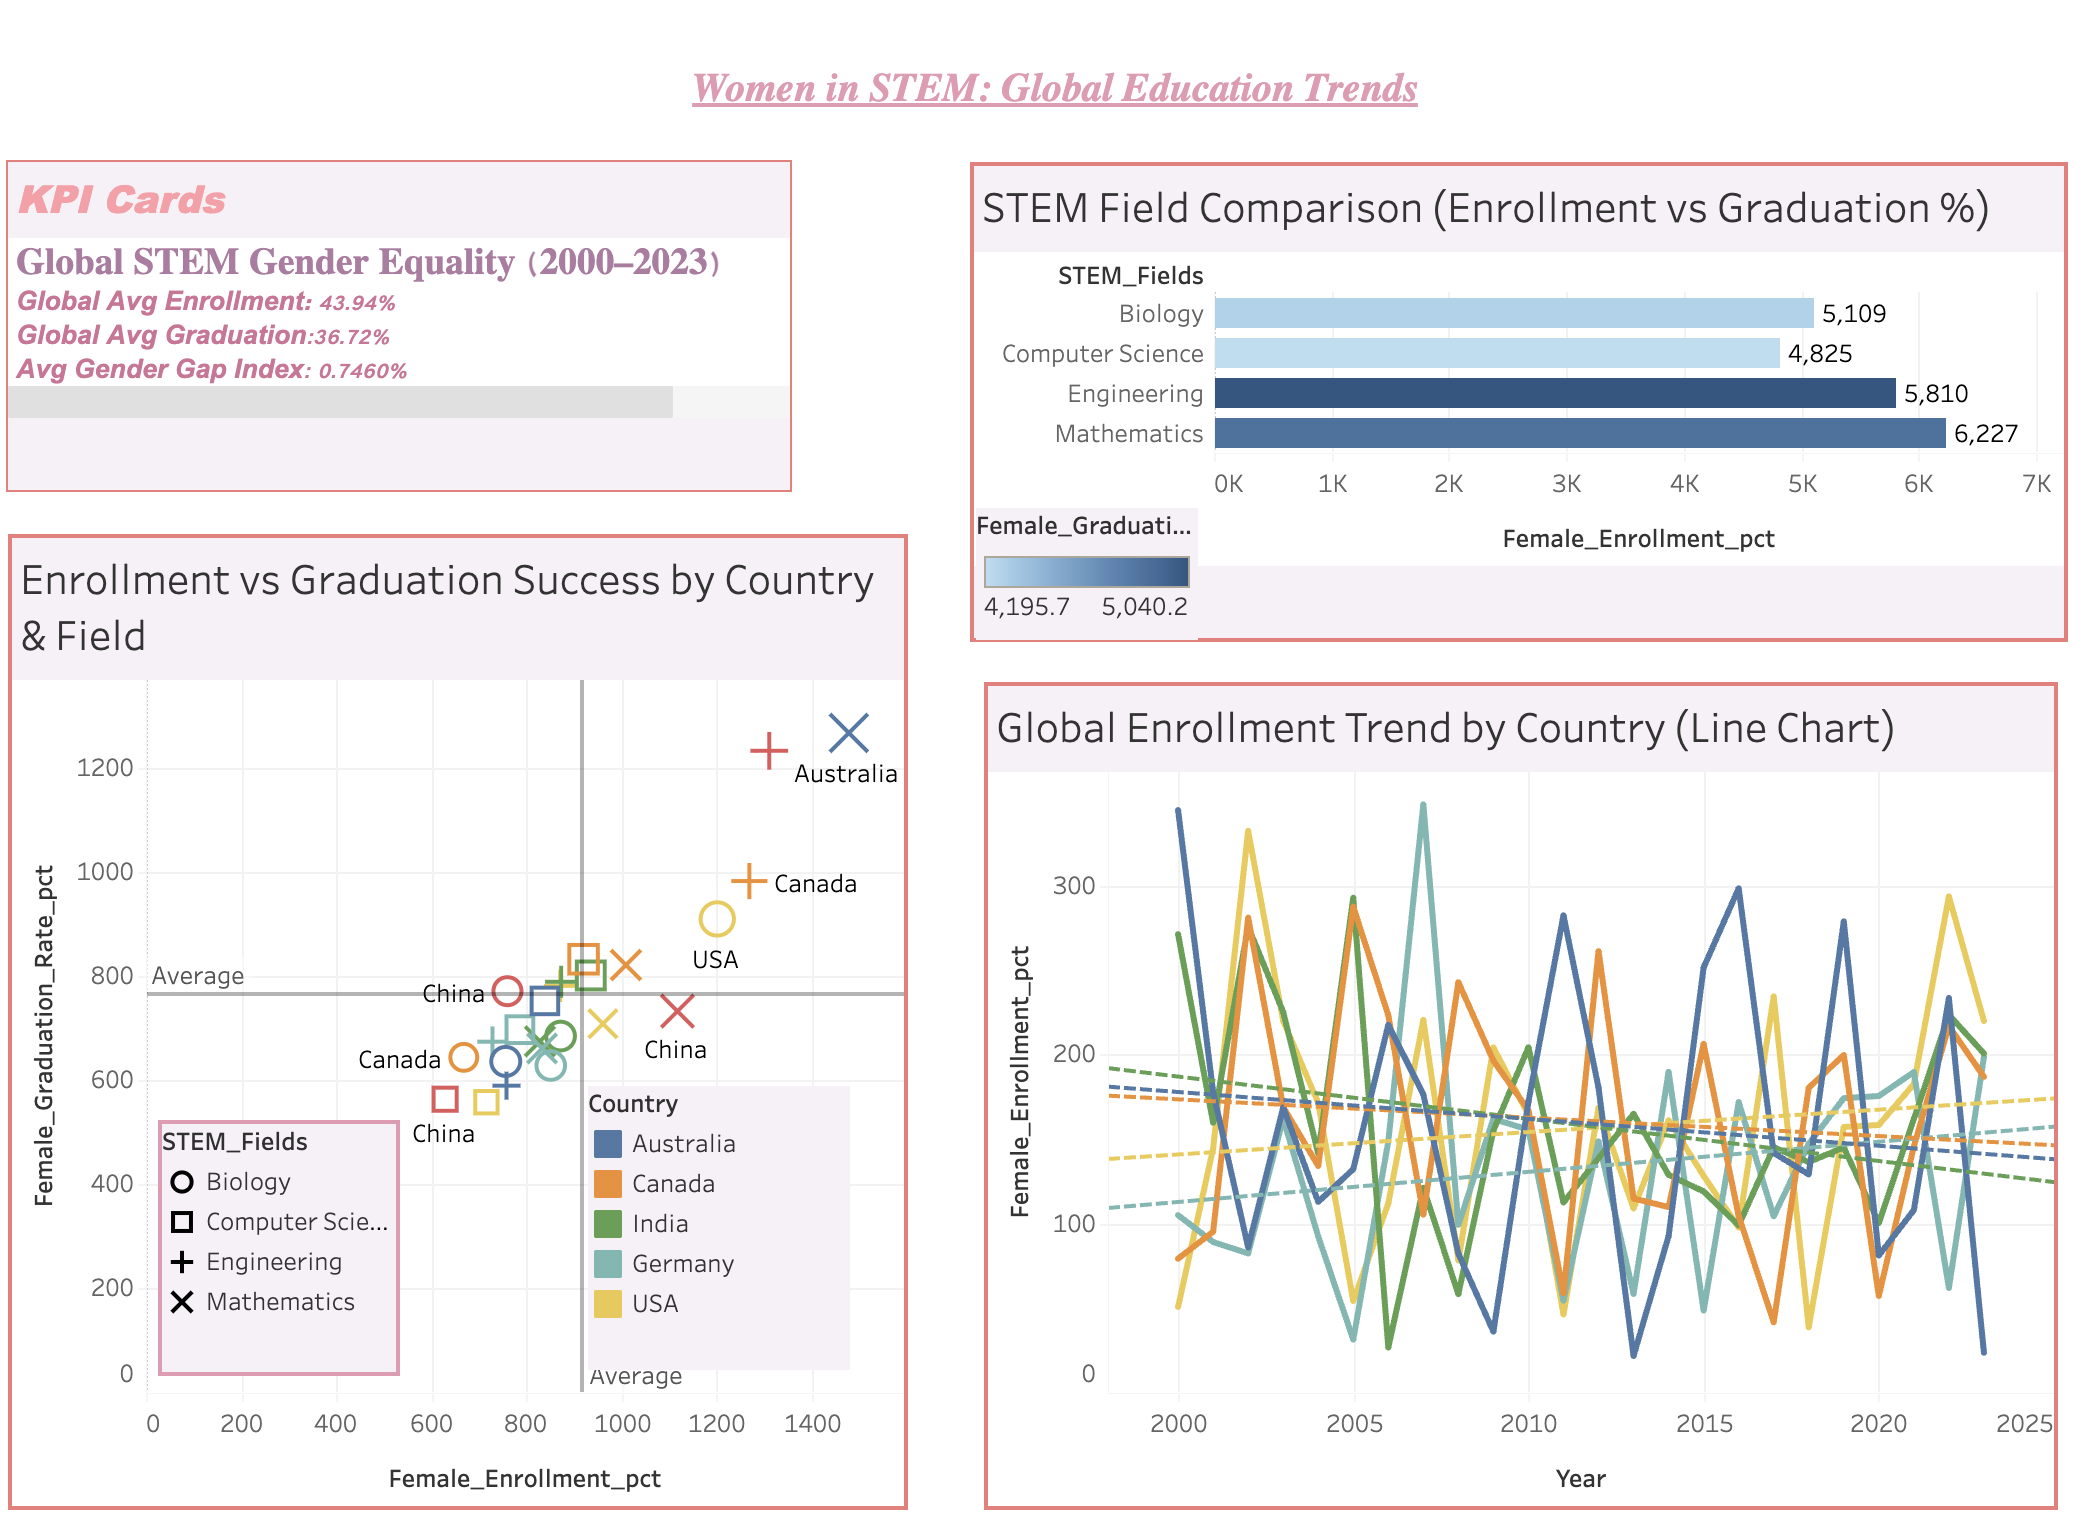

What the dashboard file says about the page in this screenshot:
{"tool":"tableau","page":{"name":"Dashboard 1","canvas":[1000,1000],"units":"permille","ordinal":0},"visuals":[{"type":"text","box":[260.7,29.5,474.6,62.1]},{"type":"worksheet","title":"KPI Cards","mark":"Automatic","box":[2.9,108.7,371.1,217.4]},{"type":"worksheet","title":"STEM Field Comparison (Enrollment vs Graduation %)","mark":"Automatic","rows":["STEM Fields"],"cols":["Female Enrollment (%)"],"box":[458,110.2,517.6,313.7]},{"type":"legend","title":"STEM Field Comparison (Enrollment vs Graduation %)","param":"[federated.092qbed1l7tzrz146yuw811bo4e5].[sum:Female Graduation Rate (%):qk]","box":[460,335.4,105.5,87]},{"type":"worksheet","title":"Enrollment vs Graduation Success by Country & Field","mark":"Automatic","rows":["Female Graduation Rate (%)"],"cols":["Female Enrollment (%)"],"box":[3.9,352.5,424.8,638.2]},{"type":"worksheet","title":"Global Enrollment Trend by Country (Line Chart)","mark":"Automatic","rows":["Female Enrollment (%)"],"cols":["Year"],"box":[463.9,450.3,506.8,540.4]},{"type":"legend","title":"Global Enrollment Trend by Country (Line Chart)","param":"[federated.092qbed1l7tzrz146yuw811bo4e5].[none:Country:nk]","box":[277.3,714.3,124,184.8]},{"type":"legend","title":"Enrollment vs Graduation Success by Country & Field","param":"[federated.092qbed1l7tzrz146yuw811bo4e5].[none:STEM Fields:nk]","box":[74.2,736,114.3,167.7]}]}

Visuals, with their boxes on the dashboard's canvas, which has no fixed pixel size, in thousandths of its width and height (x1, y1, x2, y2). These are canvas units, not pixel positions in the 2088x1520 screenshot, which may show the page scaled, cropped or inside an application window:
text: locate(261, 30, 735, 92)
"KPI Cards" worksheet: locate(3, 109, 374, 326)
"STEM Field Comparison (Enrollment vs Graduation %)" worksheet: locate(458, 110, 976, 424)
"STEM Field Comparison (Enrollment vs Graduation %)" legend: locate(460, 335, 566, 422)
"Enrollment vs Graduation Success by Country & Field" worksheet: locate(4, 352, 429, 991)
"Global Enrollment Trend by Country (Line Chart)" worksheet: locate(464, 450, 971, 991)
"Global Enrollment Trend by Country (Line Chart)" legend: locate(277, 714, 401, 899)
"Enrollment vs Graduation Success by Country & Field" legend: locate(74, 736, 188, 904)
